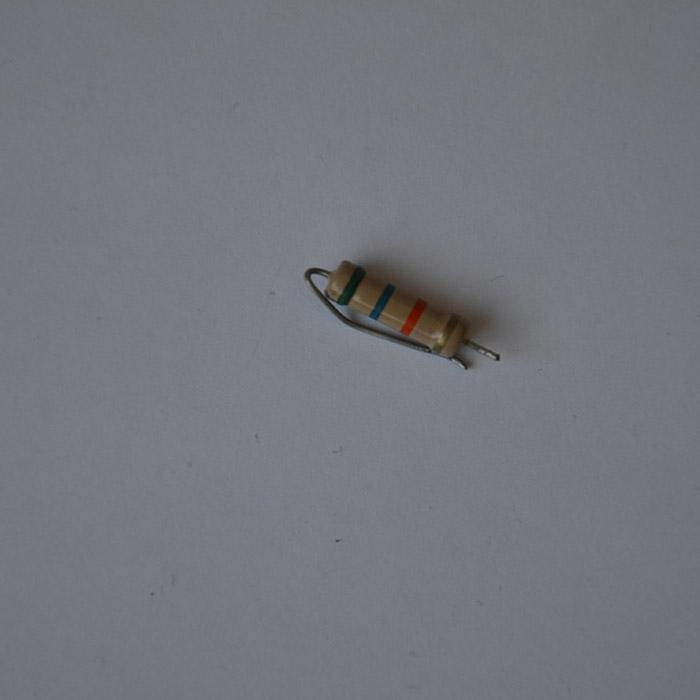resistor: (325, 256, 473, 360)
